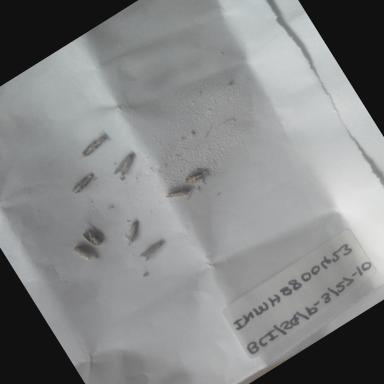pbw: (110, 208, 156, 249), (72, 125, 116, 162), (60, 166, 101, 202), (64, 234, 102, 271), (178, 158, 218, 193), (106, 148, 144, 182), (134, 236, 169, 266), (161, 178, 194, 208), (78, 223, 106, 252)
